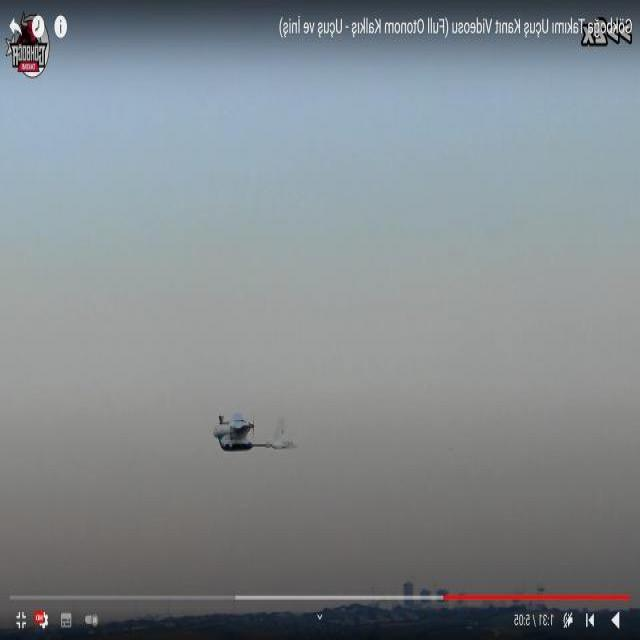UAV: (202, 398, 274, 486)
